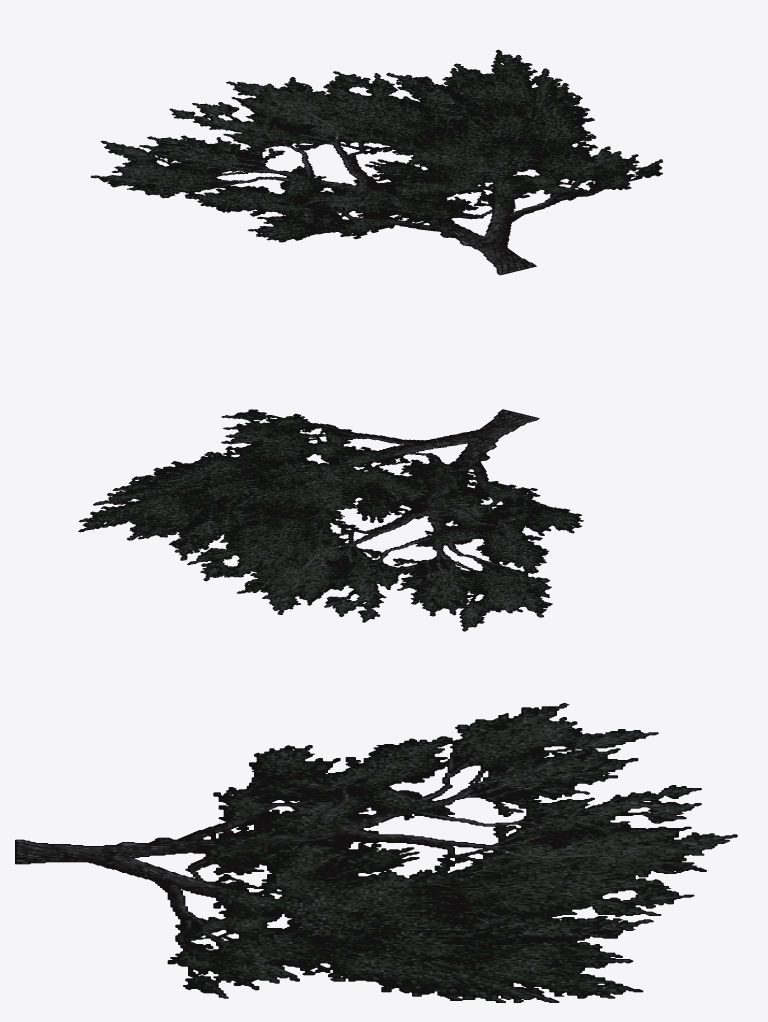
Rendered from SM_EC_Tree_Card_09.fbx.
The picture shows the model from 3 angles, top to bottom: view 1: azimuth 30°, elevation 25°; view 2: azimuth 150°, elevation 25°; view 3: azimuth 270°, elevation 25°; orthographic projection. The views are drawn at different scales.
Parts seen in each view (by area): view 1: SM_EC_Tree_Card_09; view 2: SM_EC_Tree_Card_09; view 3: SM_EC_Tree_Card_09.
Part boxes in pixels (left/top/right/bottom): SM_EC_Tree_Card_09: left=90, top=49, right=662, bottom=275; SM_EC_Tree_Card_09: left=78, top=409, right=583, bottom=631; SM_EC_Tree_Card_09: left=15, top=703, right=737, bottom=1002.
Bounding box in the file's own units: 4.49 × 4.54 × 0.
